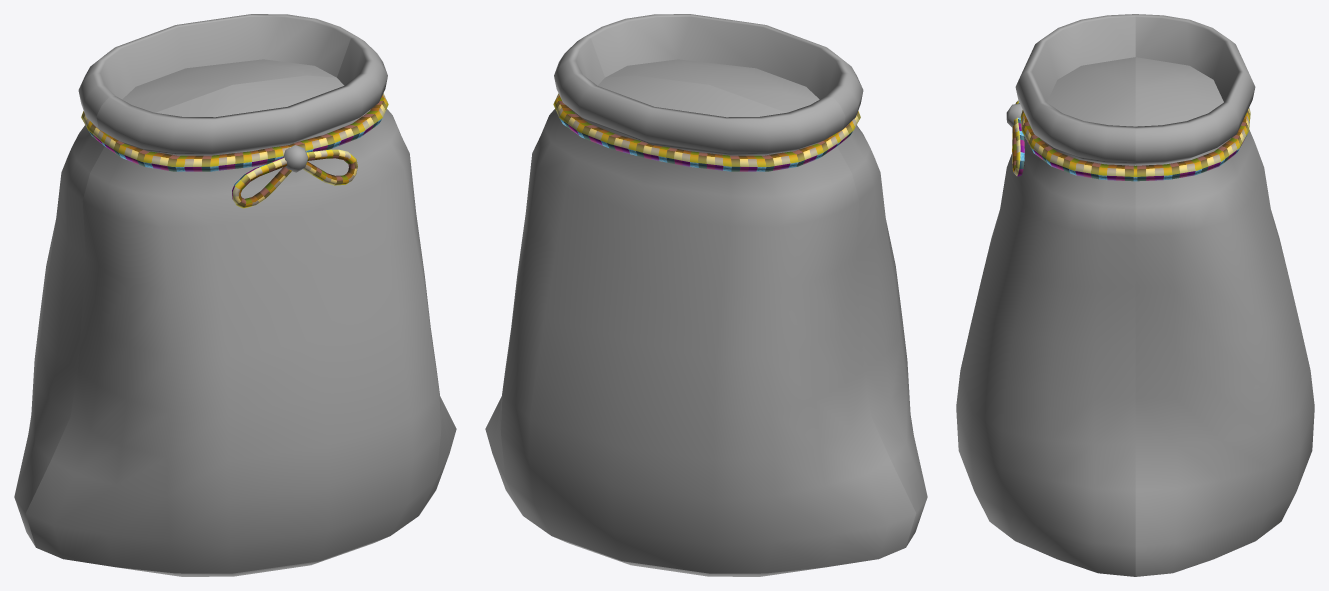
File: SM_Sack.fbx
3 views of the same model, side by side, from view 1: azimuth 30°, elevation 25°; view 2: azimuth 150°, elevation 25°; view 3: azimuth 270°, elevation 25° (orthographic). The views are drawn at different scales.
Parts seen in each view (by area): view 1: SM_Bag_lp3; view 2: SM_Bag_lp3; view 3: SM_Bag_lp3.
Part boxes in pixels (left/top/right/bottom): SM_Bag_lp3: left=14, top=14, right=456, bottom=576; SM_Bag_lp3: left=485, top=14, right=927, bottom=576; SM_Bag_lp3: left=956, top=14, right=1314, bottom=576.
Bounding box in the file's own units: 79.51 × 80.66 × 62.07.
